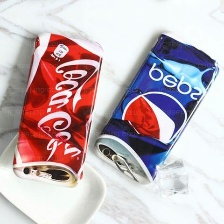can: (91, 28, 222, 188), (8, 28, 106, 197)
